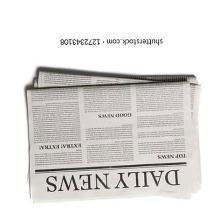news_paper: (15, 64, 203, 204)
